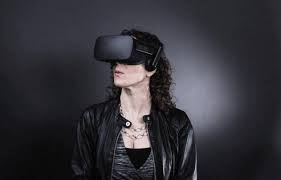oculus: (92, 33, 152, 70)
